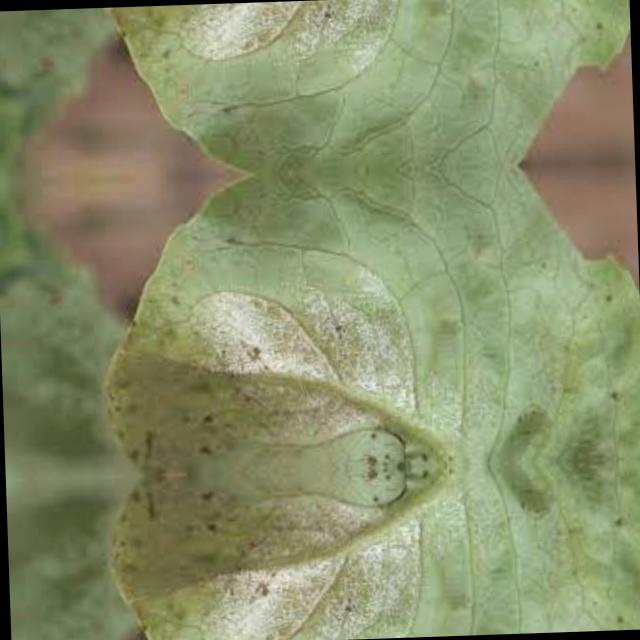Downy_mildew: (146, 163, 550, 475), (156, 460, 555, 640), (140, 0, 539, 177)
